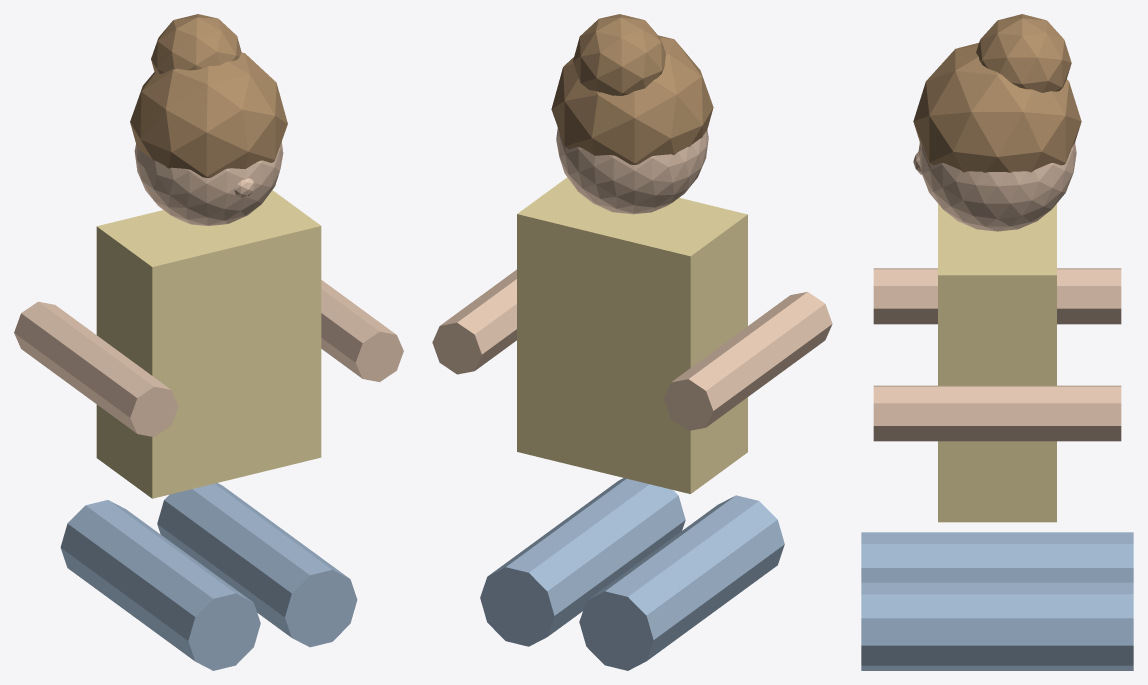
Rendered from sim_baby_athletic.glb.
3 renders of one model, left to right at view 1: azimuth 30°, elevation 25°; view 2: azimuth 150°, elevation 25°; view 3: azimuth 270°, elevation 25°, orthographic. The views are drawn at different scales.
Parts seen in each view (by area): view 1: p002, p000, p001, p006, p003, p005, p004, p007; view 2: p002, p000, p001, p006, p003, p005, p007, p004; view 3: p002, p001, p006, p004, p000, p005, p003, p007.
Part boxes in pixels (box(x1,y1,x2,y2)): p002: box(96, 190, 321, 498); p000: box(60, 500, 260, 670); p001: box(157, 483, 357, 647); p006: box(130, 52, 287, 177); p003: box(14, 301, 178, 437); p005: box(134, 142, 283, 226); p004: box(321, 280, 403, 382); p007: box(151, 14, 241, 73); p002: box(517, 177, 747, 493); p000: box(579, 495, 784, 670); p001: box(480, 478, 685, 646); p006: box(551, 35, 713, 164); p003: box(664, 292, 832, 430); p005: box(556, 127, 708, 214); p007: box(573, 14, 665, 95); p004: box(432, 269, 516, 374); p002: box(938, 204, 1056, 522); p001: box(861, 582, 1133, 670); p006: box(913, 42, 1081, 172); p004: box(873, 385, 1121, 441); p000: box(861, 532, 1133, 582); p005: box(918, 143, 1076, 231); p003: box(873, 268, 1121, 324); p007: box(976, 14, 1071, 92).
Bounding box in the file's own units: 0.442 × 0.9006 × 0.3575.
